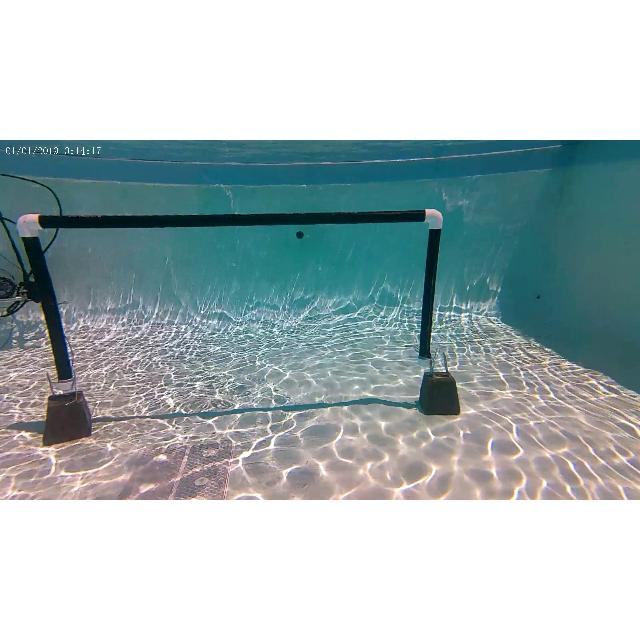prequal gate: (18, 210, 442, 390)
prequal gate leg l: (16, 212, 86, 390)
prequal gate leg r: (418, 207, 438, 366)
